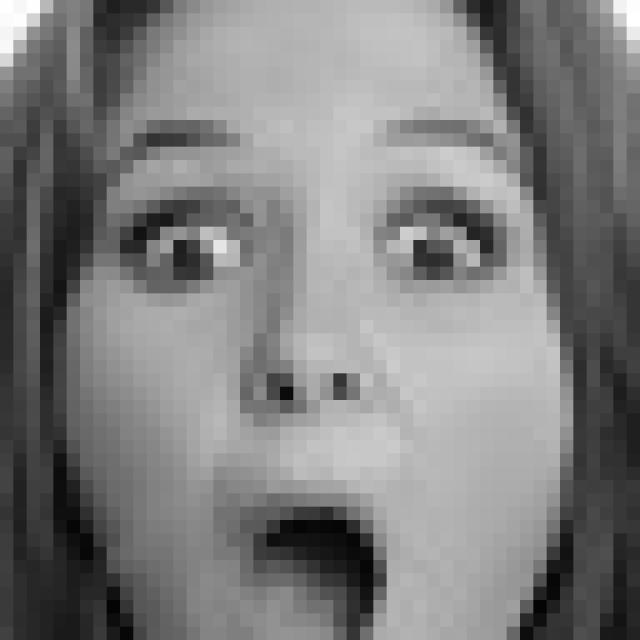surprise: (78, 110, 536, 640)
